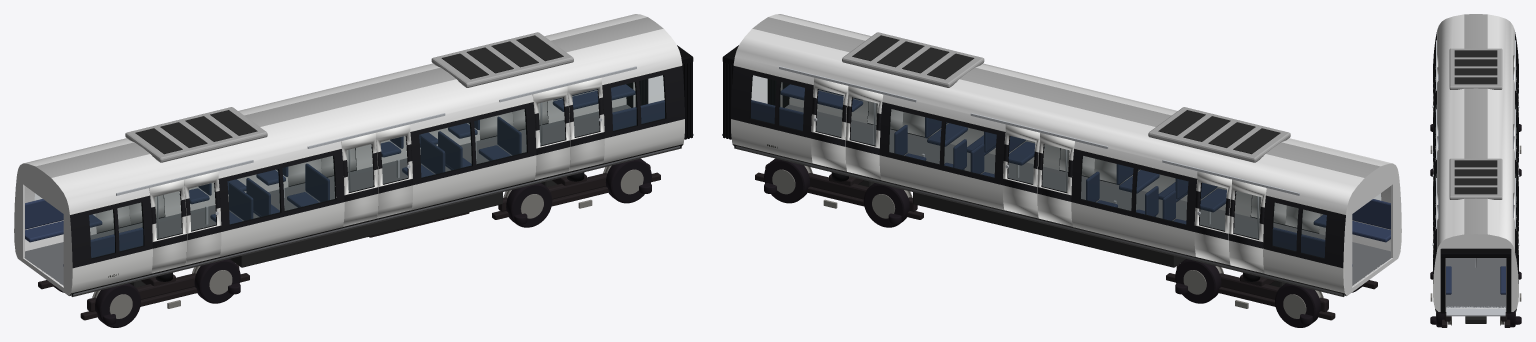
Rendered from mp05_car.glb.
The picture shows the model from 3 angles, left to right: view 1: azimuth 30°, elevation 25°; view 2: azimuth 150°, elevation 25°; view 3: azimuth 270°, elevation 25°; orthographic projection. The views are drawn at different scales.
Visible parts, largest first — view 1: METRO_MP05_L1-6voit_V2_Caisse, METRO_MP05_L1-6voit_V2_BaieG1, METRO_MP05_L1-6voit_V2_PorteD1_AV.002, METRO_MP05_L1-6voit_V2_PorteD3_AV.002, METRO_MP05_L1-6voit_V2_PorteD2_AV.002, METRO_MP05_L1-6voit_V2_PorteD2_AR.002, METRO_MP05_L1-6voit_V2_PorteD3_AR.002, METRO_MP05_L1-6voit_V2_PorteD1_AR.002, METRO_MP05_L1-6voit_V2_PorteD1_AV_Vitre, METRO_MP05_L1-6voit_V2_PorteD3_AR_Vitre, METRO_MP05_L1-6voit_V2_PorteD2_AR_Vitre, METRO_MP05_L1-6voit_V2_PorteD3_AV_Vitre (+5 smaller); view 2: METRO_MP05_L1-6voit_V2_Caisse, METRO_MP05_L1-6voit_V2_BaieG1, METRO_MP05_L1-6voit_V2_PorteG1_AV.002, METRO_MP05_L1-6voit_V2_PorteG3_AV.002, METRO_MP05_L1-6voit_V2_PorteG2_AV.002, METRO_MP05_L1-6voit_V2_PorteG2_AR.002, METRO_MP05_L1-6voit_V2_PorteG3_AR.002, METRO_MP05_L1-6voit_V2_PorteG1_AR.002, METRO_MP05_L1-6voit_V2_PorteG1_AV_Vitre, METRO_MP05_L1-6voit_V2_PorteG3_AR_Vitre, METRO_MP05_L1-6voit_V2_PorteG2_AR_Vitre, METRO_MP05_L1-6voit_V2_PorteG3_AV_Vitre (+3 smaller); view 3: METRO_MP05_L1-6voit_V2_Caisse, METRO_MP05_L1-6voit_V2_BaieG1, METRO_MP05_L1-6voit_V2_PorteG3_AV.002, METRO_MP05_L1-6voit_V2_PorteD3_AV.002, METRO_MP05_L1-6voit_V2_PorteG2_AV.002, METRO_MP05_L1-6voit_V2_PorteD2_AV.002, METRO_MP05_L1-6voit_V2_PorteD1_AV.002, METRO_MP05_L1-6voit_V2_PorteG1_AV.002, METRO_MP05_L1-6voit_V2_PorteG1_AR.002, METRO_MP05_L1-6voit_V2_PorteD1_AR.002.
Part boxes in pixels (x1,y1,x2,y2): METRO_MP05_L1-6voit_V2_Caisse: (14, 14, 693, 327); METRO_MP05_L1-6voit_V2_BaieG1: (35, 75, 665, 258); METRO_MP05_L1-6voit_V2_PorteD1_AV.002: (567, 77, 604, 171); METRO_MP05_L1-6voit_V2_PorteD3_AV.002: (184, 171, 221, 264); METRO_MP05_L1-6voit_V2_PorteD2_AV.002: (376, 124, 412, 218); METRO_MP05_L1-6voit_V2_PorteD2_AR.002: (341, 133, 378, 226); METRO_MP05_L1-6voit_V2_PorteD3_AR.002: (149, 179, 186, 273); METRO_MP05_L1-6voit_V2_PorteD1_AR.002: (532, 86, 570, 179); METRO_MP05_L1-6voit_V2_PorteD1_AV_Vitre: (572, 89, 599, 136); METRO_MP05_L1-6voit_V2_PorteD3_AR_Vitre: (155, 191, 181, 238); METRO_MP05_L1-6voit_V2_PorteD2_AR_Vitre: (346, 144, 373, 191); METRO_MP05_L1-6voit_V2_PorteD3_AV_Vitre: (189, 183, 215, 230); METRO_MP05_L1-6voit_V2_Caisse: (722, 14, 1401, 327); METRO_MP05_L1-6voit_V2_BaieG1: (750, 75, 1380, 258); METRO_MP05_L1-6voit_V2_PorteG1_AV.002: (811, 77, 848, 171); METRO_MP05_L1-6voit_V2_PorteG3_AV.002: (1194, 171, 1231, 264); METRO_MP05_L1-6voit_V2_PorteG2_AV.002: (1003, 124, 1039, 218); METRO_MP05_L1-6voit_V2_PorteG2_AR.002: (1037, 133, 1074, 226); METRO_MP05_L1-6voit_V2_PorteG3_AR.002: (1229, 179, 1266, 273); METRO_MP05_L1-6voit_V2_PorteG1_AR.002: (845, 86, 883, 179); METRO_MP05_L1-6voit_V2_PorteG1_AV_Vitre: (816, 89, 843, 136); METRO_MP05_L1-6voit_V2_PorteG3_AR_Vitre: (1234, 191, 1260, 238); METRO_MP05_L1-6voit_V2_PorteG2_AR_Vitre: (1042, 144, 1069, 191); METRO_MP05_L1-6voit_V2_PorteG3_AV_Vitre: (1200, 183, 1226, 230); METRO_MP05_L1-6voit_V2_Caisse: (1430, 14, 1521, 327); METRO_MP05_L1-6voit_V2_BaieG1: (1434, 104, 1517, 210); METRO_MP05_L1-6voit_V2_PorteG3_AV.002: (1513, 67, 1518, 133); METRO_MP05_L1-6voit_V2_PorteD3_AV.002: (1433, 67, 1438, 133); METRO_MP05_L1-6voit_V2_PorteG2_AV.002: (1513, 136, 1518, 202); METRO_MP05_L1-6voit_V2_PorteD2_AV.002: (1433, 136, 1438, 202); METRO_MP05_L1-6voit_V2_PorteD1_AV.002: (1433, 205, 1438, 258); METRO_MP05_L1-6voit_V2_PorteG1_AV.002: (1513, 205, 1518, 254); METRO_MP05_L1-6voit_V2_PorteG1_AR.002: (1513, 192, 1518, 242); METRO_MP05_L1-6voit_V2_PorteD1_AR.002: (1433, 192, 1438, 242).
Bounding box in the file's own units: 15.2 × 3.49 × 2.6.
5 materials, 5 textured.
